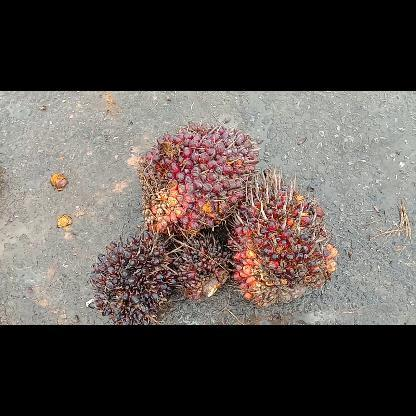TBS abnormal: (87, 232, 179, 324), (166, 230, 232, 301)
TBS masak: (226, 162, 342, 306), (135, 118, 263, 238)
